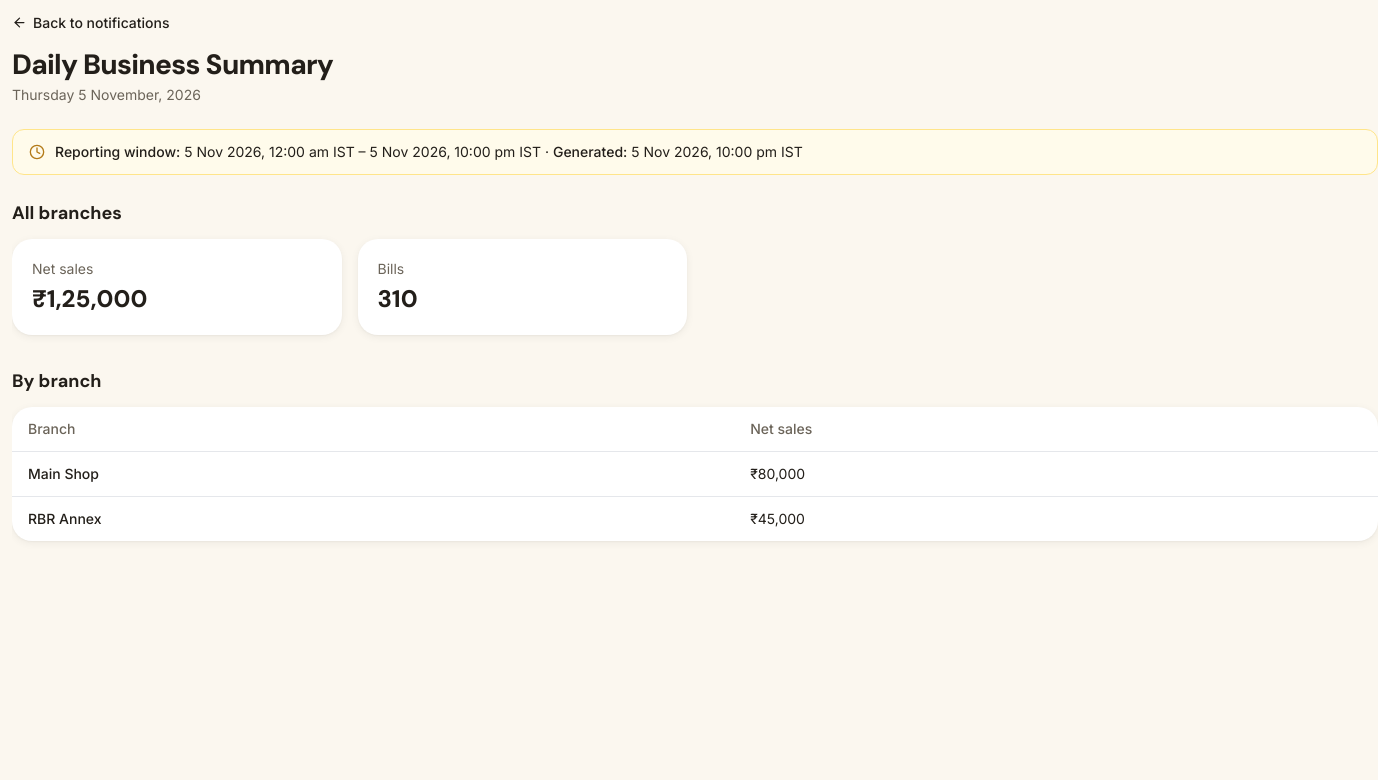
Test: Daily Business Summary page › links back to the Notification Center
The image size is (1378, 780).
Click the link "Back to notifications" at (91, 22), box [12,12,170,32]
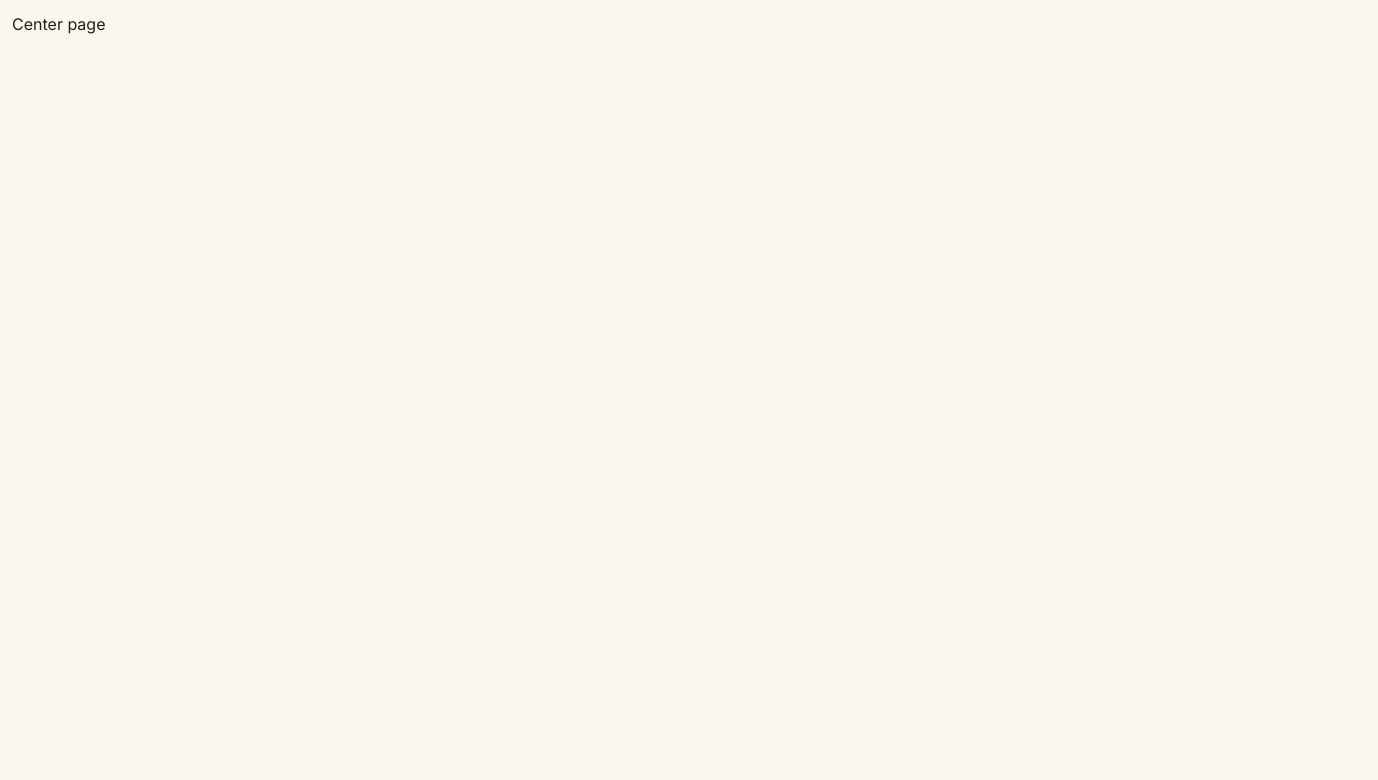
Expected: the text "Center page" is shown, [12,14,106,34]
